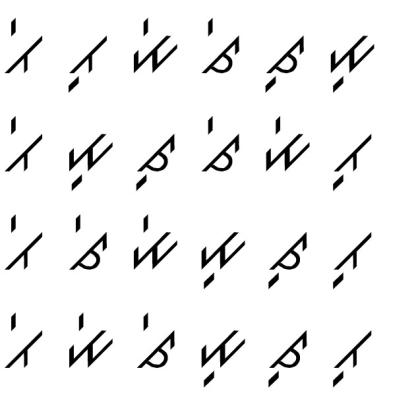be: (2, 206, 48, 276), (4, 310, 49, 373), (2, 114, 44, 179), (4, 17, 45, 76)
bu: (326, 127, 375, 194), (324, 229, 375, 292), (328, 324, 376, 388), (64, 32, 110, 97)
ce: (62, 214, 111, 279), (190, 19, 242, 80), (131, 307, 178, 374), (198, 114, 243, 180)
cu: (261, 328, 313, 392), (264, 226, 311, 292), (258, 31, 307, 94), (134, 128, 179, 192)
me: (127, 18, 182, 78), (260, 113, 312, 174), (129, 211, 181, 272), (64, 309, 116, 370)
mu: (320, 22, 382, 94), (191, 322, 250, 387), (194, 225, 249, 291), (63, 127, 115, 192)
